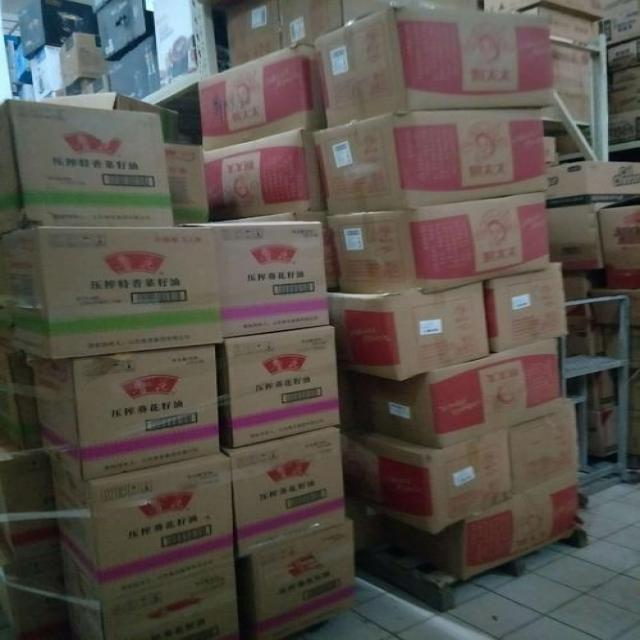box: (0, 225, 224, 361), (310, 5, 554, 128), (51, 452, 237, 601), (32, 343, 220, 481), (312, 105, 547, 215), (342, 340, 568, 449), (325, 188, 547, 294), (1, 99, 173, 234), (342, 428, 511, 532), (59, 549, 238, 640), (328, 282, 492, 381), (229, 425, 348, 560), (224, 323, 339, 450), (196, 44, 323, 156), (214, 221, 330, 338), (460, 467, 579, 581), (201, 126, 325, 221), (253, 523, 356, 636), (483, 262, 566, 356), (38, 91, 179, 144), (508, 409, 579, 497), (547, 203, 640, 269), (547, 161, 640, 209), (20, 1, 96, 59), (160, 143, 209, 223), (595, 206, 640, 290), (224, 0, 279, 66), (106, 36, 160, 101), (56, 34, 113, 88)
